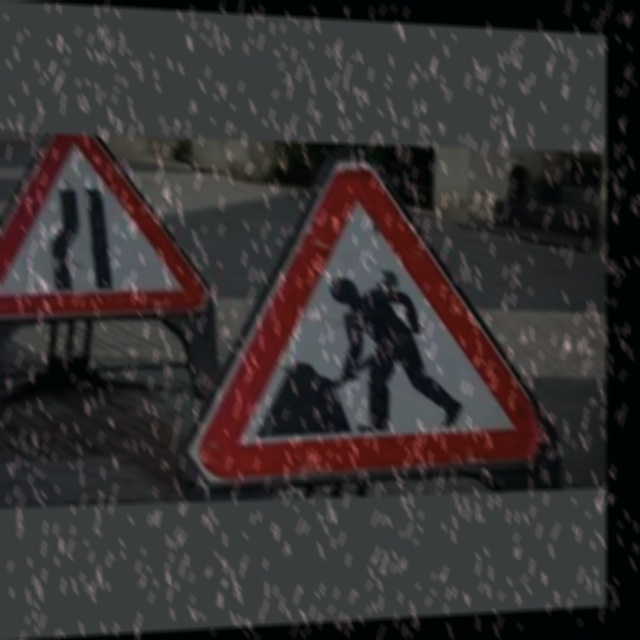Men_at_Work: (190, 181, 539, 491)
